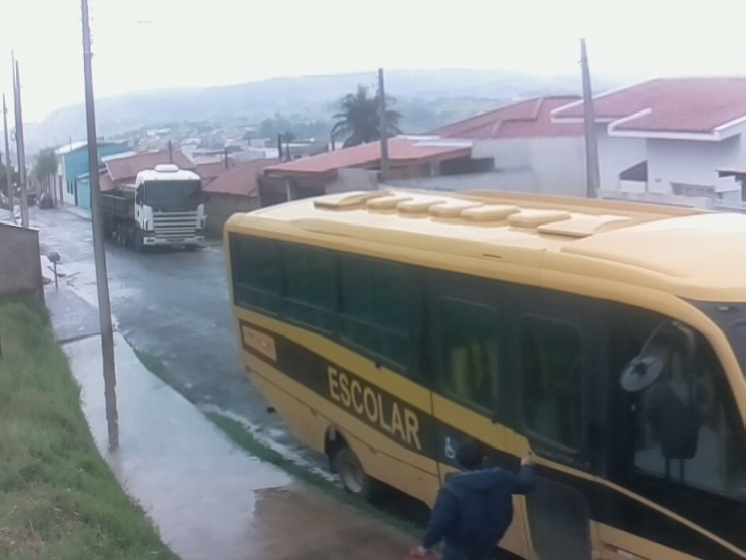person: (415, 440, 539, 560)
